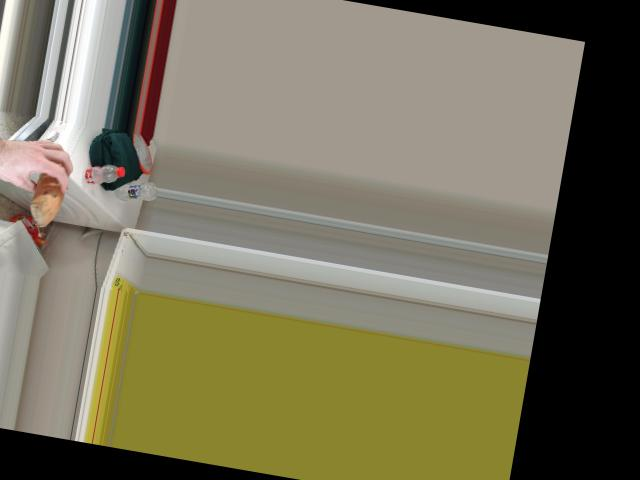sweet_potato: (23, 161, 66, 213)
